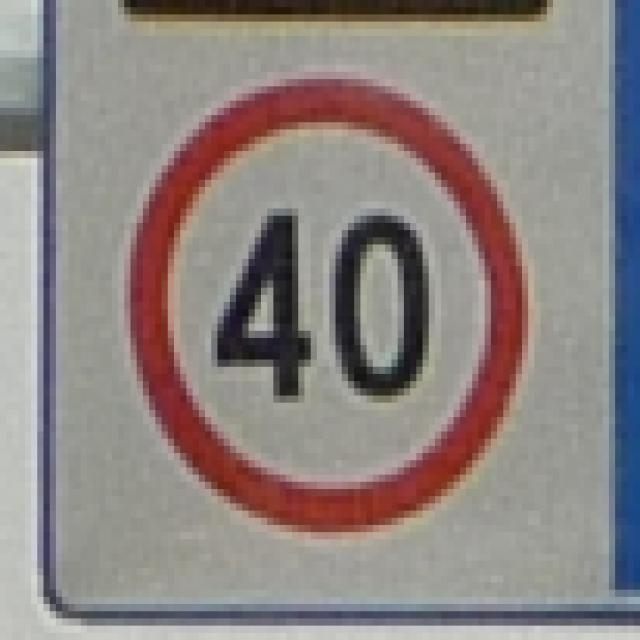Speed: (123, 65, 528, 539)
